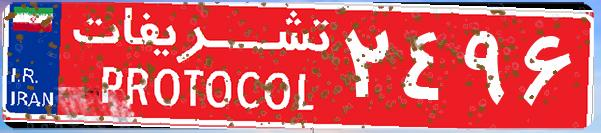2: (340, 20, 400, 115)
4: (400, 20, 460, 115)
6: (520, 20, 580, 115)
9: (460, 20, 520, 115)
تشریفات: (60, 8, 340, 125)
